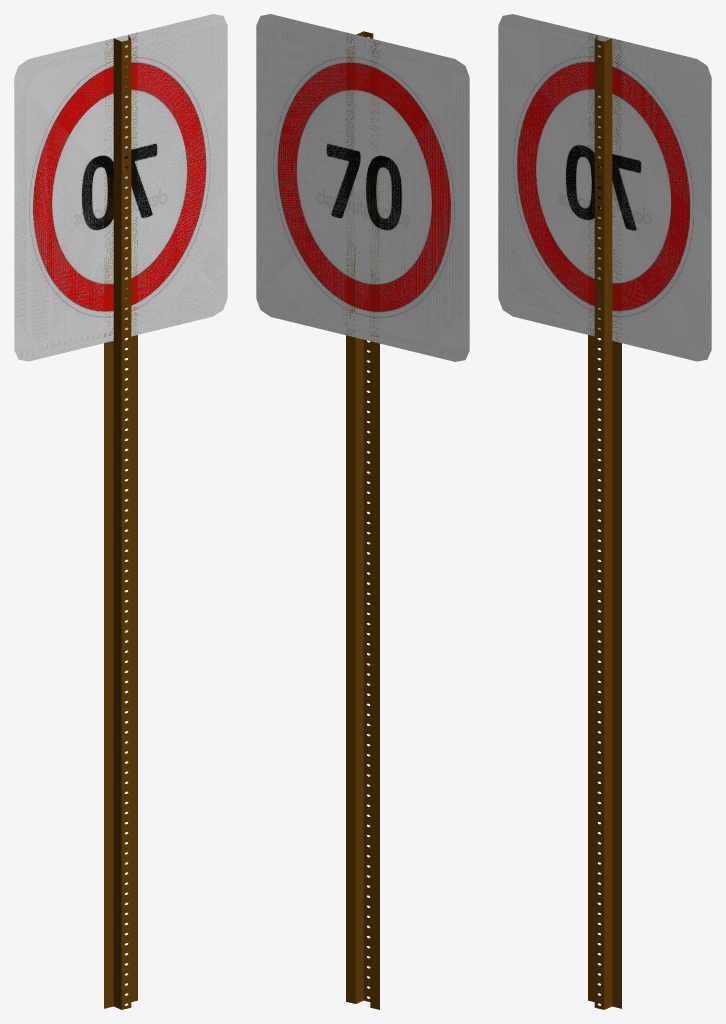
Rendered from limit20.dae.
3 renders of one model, left to right at view 1: azimuth 30°, elevation 25°; view 2: azimuth 150°, elevation 25°; view 3: azimuth 330°, elevation 25°, orthographic.
Visible parts, largest first — view 1: group_1, Component_11 (×2), Component_10, Component_12; view 2: group_1, Component_11 (×2), Component_12, Component_10; view 3: group_1, Component_11 (×2), Component_10, Component_12.
Part boxes in pixels (x1,y1,x2,y2): group_1: (14,14,227,361); Component_11 (×2): (104,335,137,1008); Component_10: (121,39,131,1009); Component_12: (113,38,121,1009); group_1: (256,14,469,361); Component_11 (×2): (346,335,379,1009); Component_12: (355,31,363,1003); Component_10: (363,31,372,1001); group_1: (498,14,711,361); Component_11 (×2): (588,335,621,1008); Component_10: (594,39,604,1009); Component_12: (604,38,612,1009).
Size of the model in its own units: 22.14 by 1 by 96.
4 materials, 4 textured.
